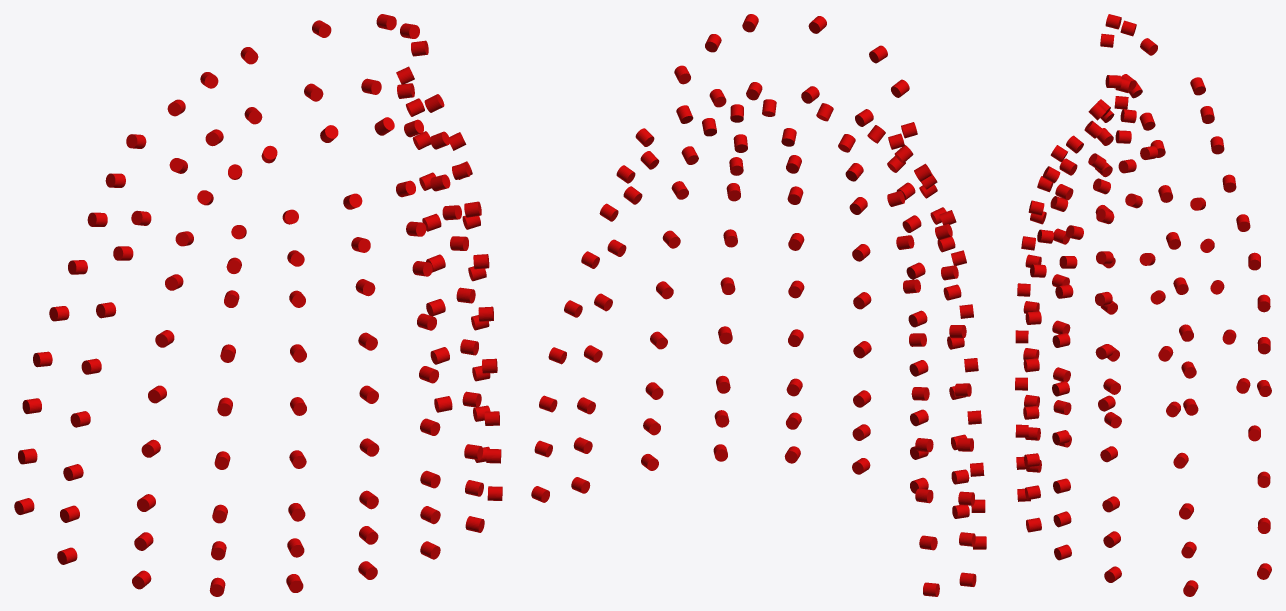
The picture shows the model from 3 angles, left to right: view 1: azimuth 30°, elevation 25°; view 2: azimuth 150°, elevation 25°; view 3: azimuth 270°, elevation 25°; orthographic projection. The views are drawn at different scales.
Bounding box in the file's own units: 0.035 × 0.0404 × 0.0201.
